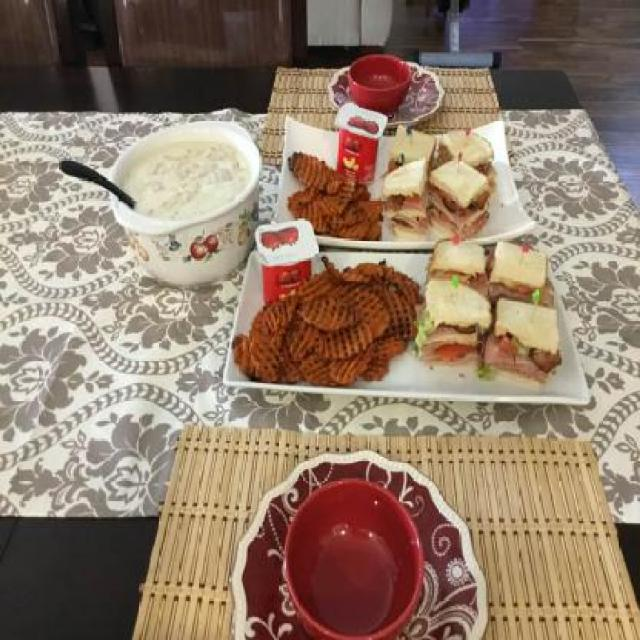clam chowder: (103, 122, 262, 290)
club sandwich: (380, 117, 563, 400)
